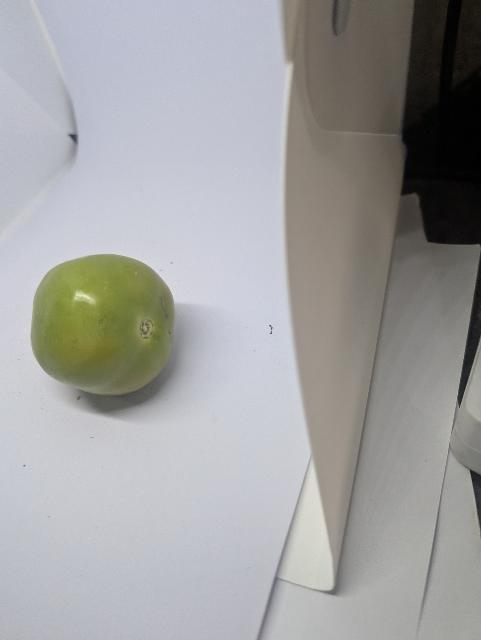green: (30, 252, 177, 397)
